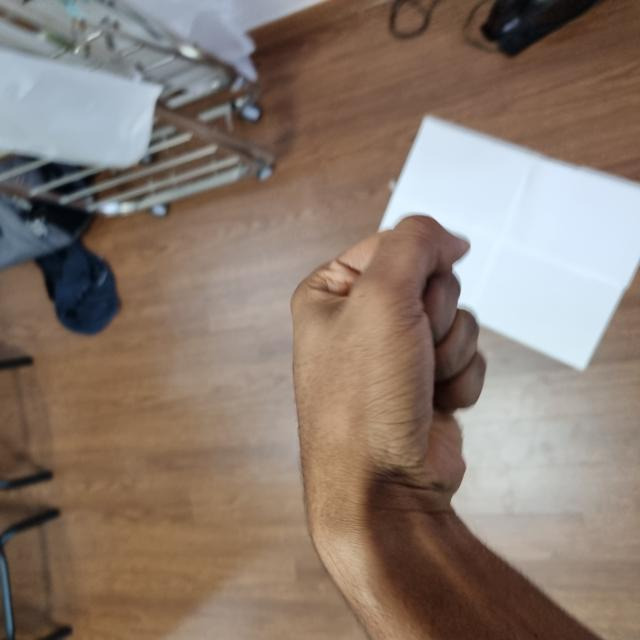Rock: (109, 290, 426, 488)
